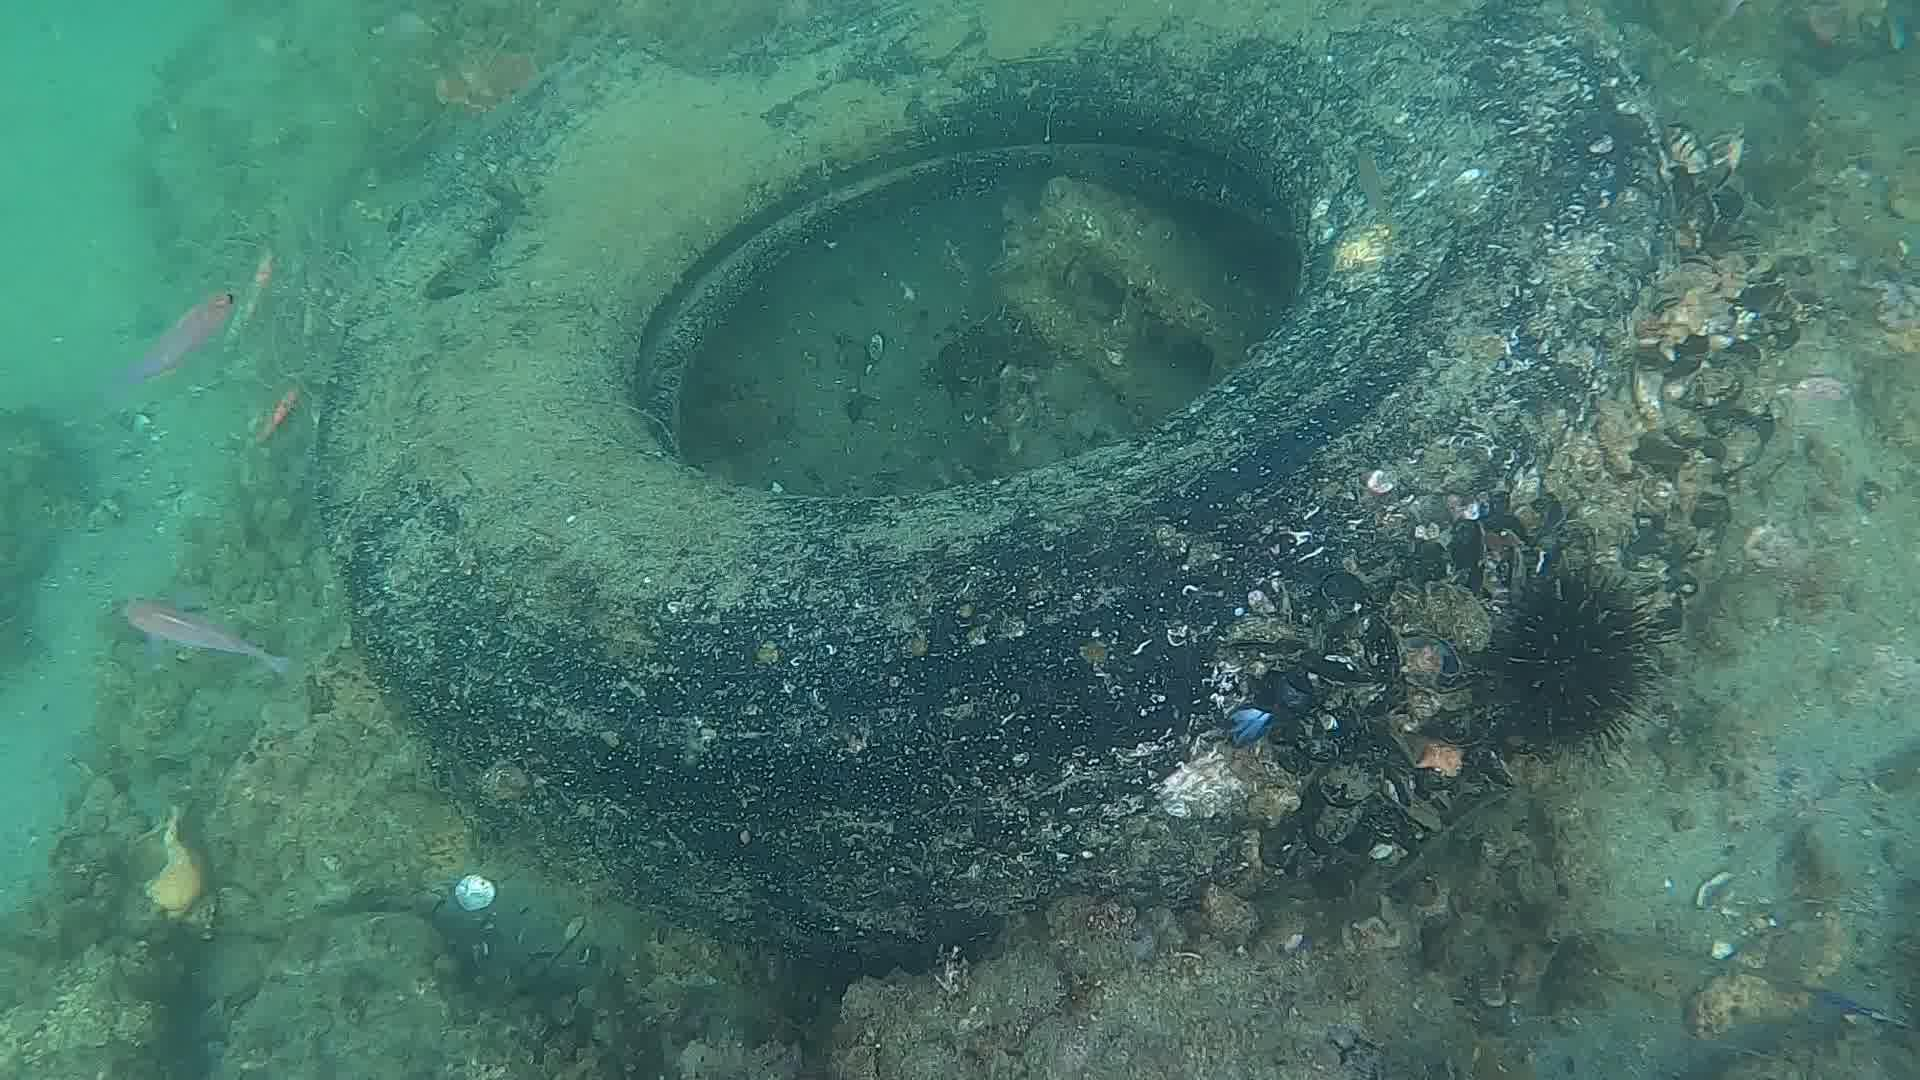tire: (316, 0, 1677, 924)
